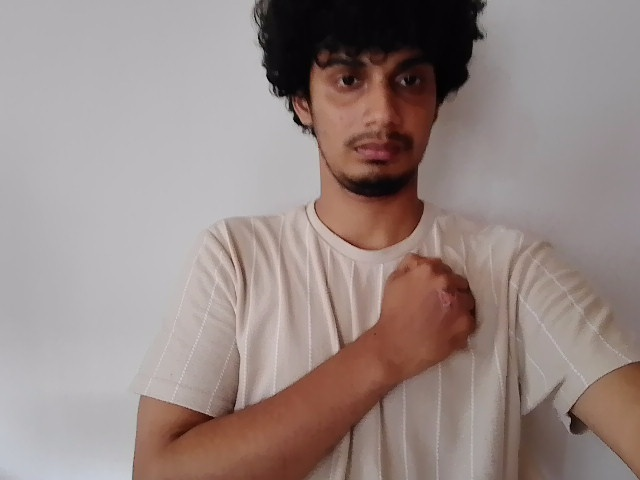sorry: (356, 199, 589, 401)
